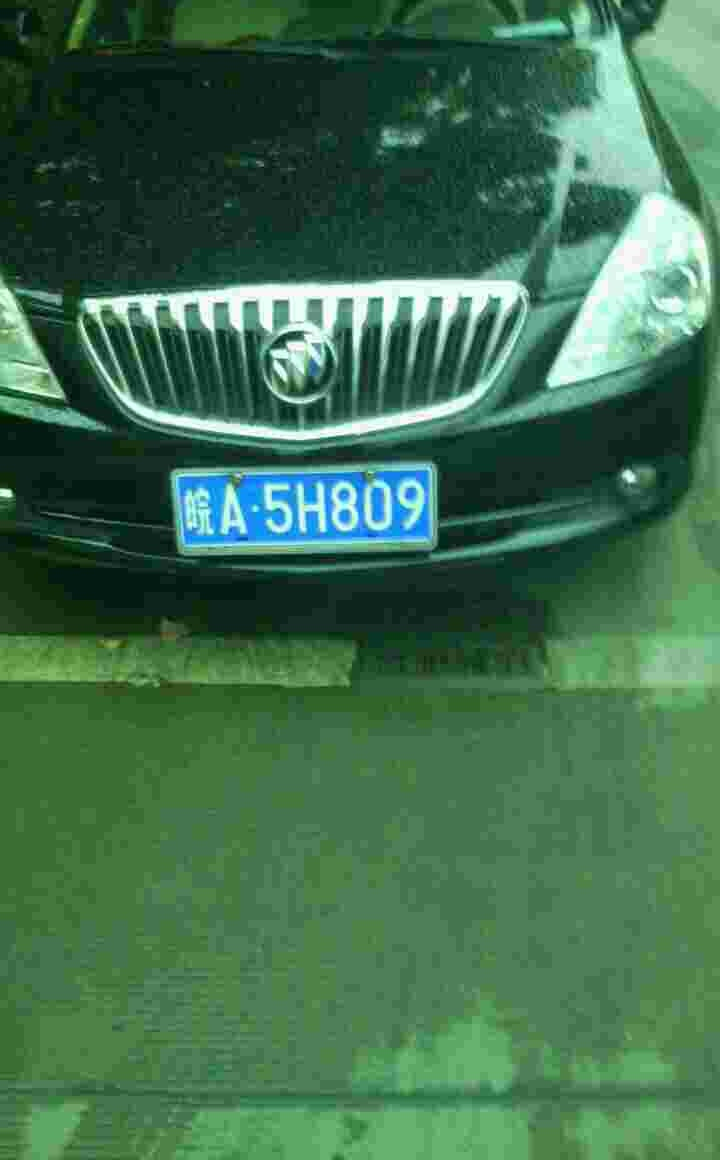plate: (177, 463, 440, 552)
